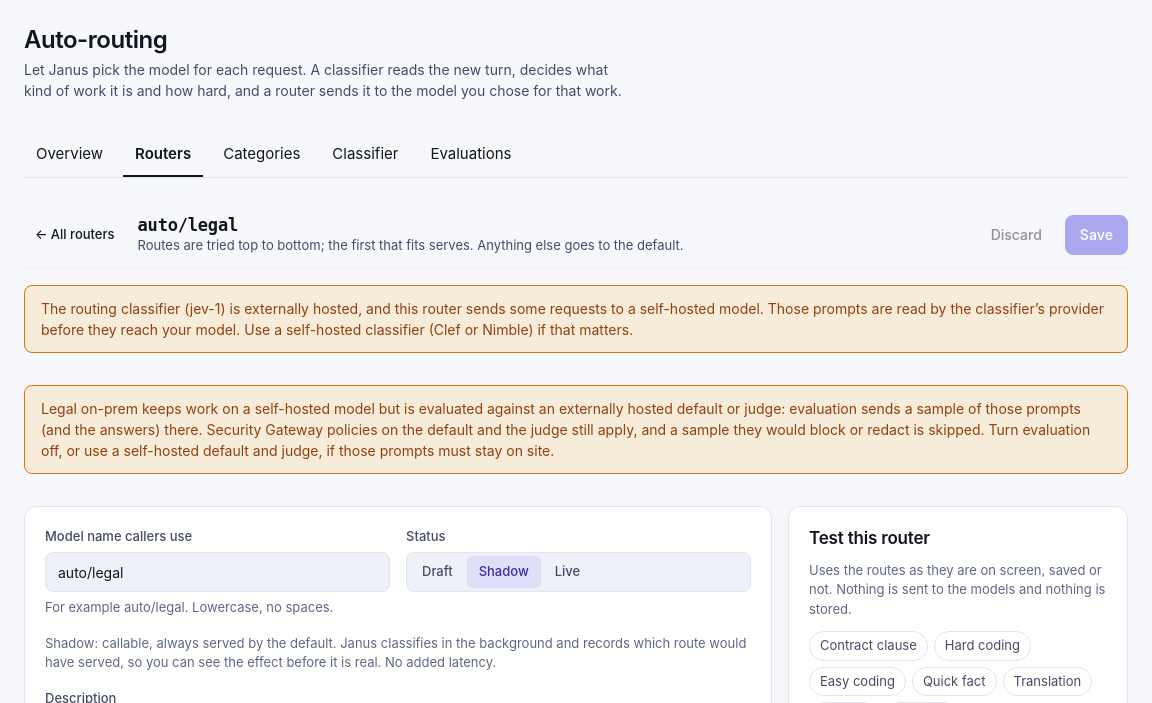
Test: Routers › tests the on-screen router and shows the trace
The image size is (1152, 703).
Check: the heading "auto/legal" is shown, box [138, 215, 238, 235]
Step 1. Click the button "Contract clause" → (868, 646), box [809, 631, 928, 661]
(page scrolled)
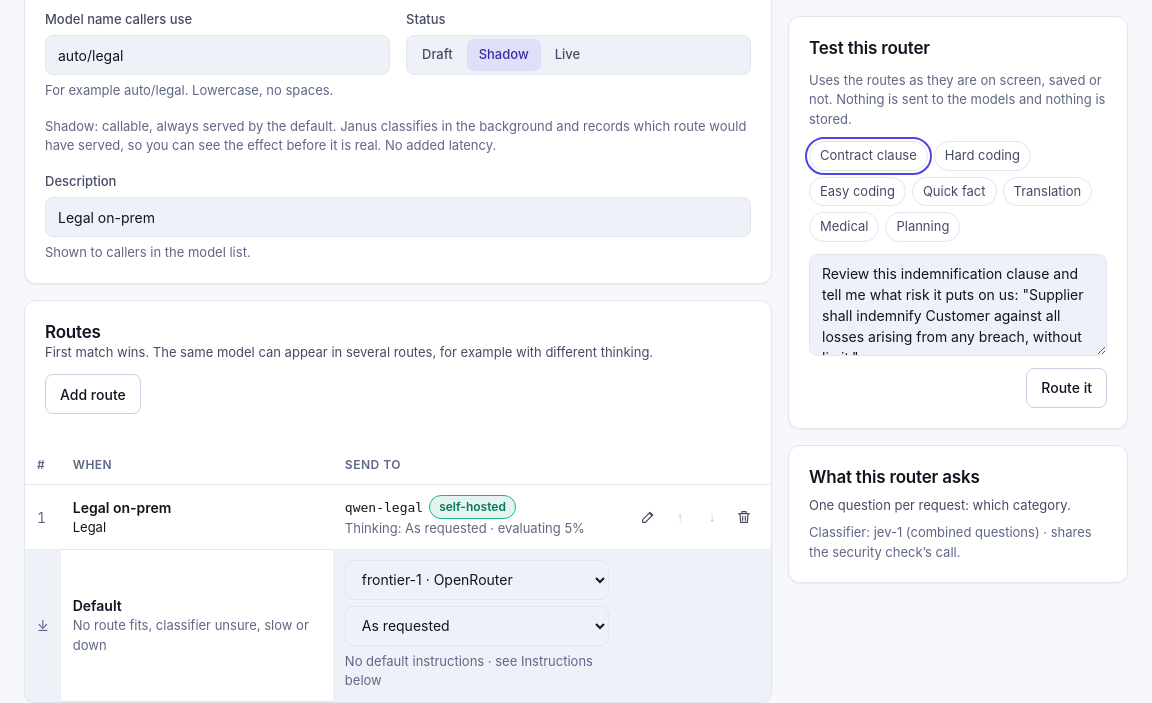
Step 2. Click the button "Route it" → (1067, 388), box [1026, 368, 1107, 408]
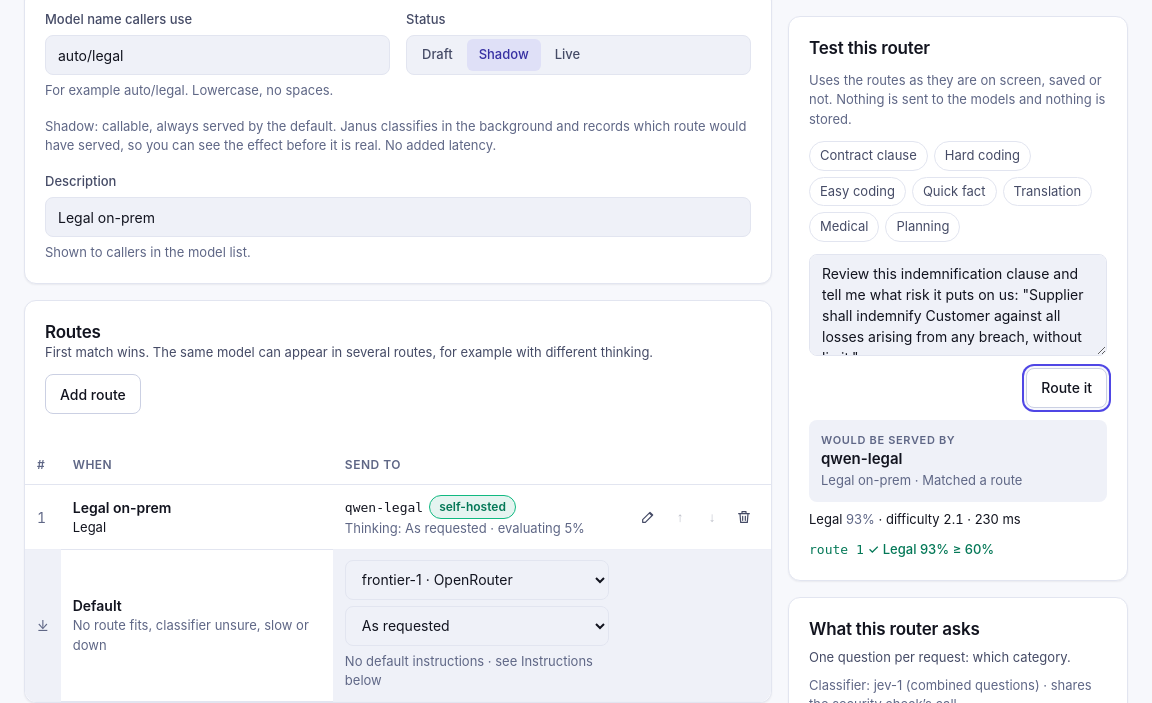
Check: the text "qwen-legal" below "Would be served by" is shown, box [821, 450, 902, 469]
Check: the text "✓ Legal 93% ≥ 60%" is shown, box [868, 541, 994, 557]
